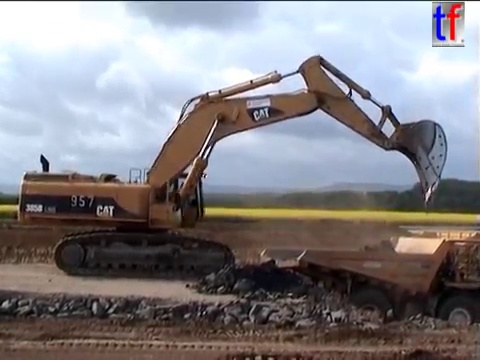excavator: (15, 52, 451, 284)
truck: (256, 224, 480, 347)
